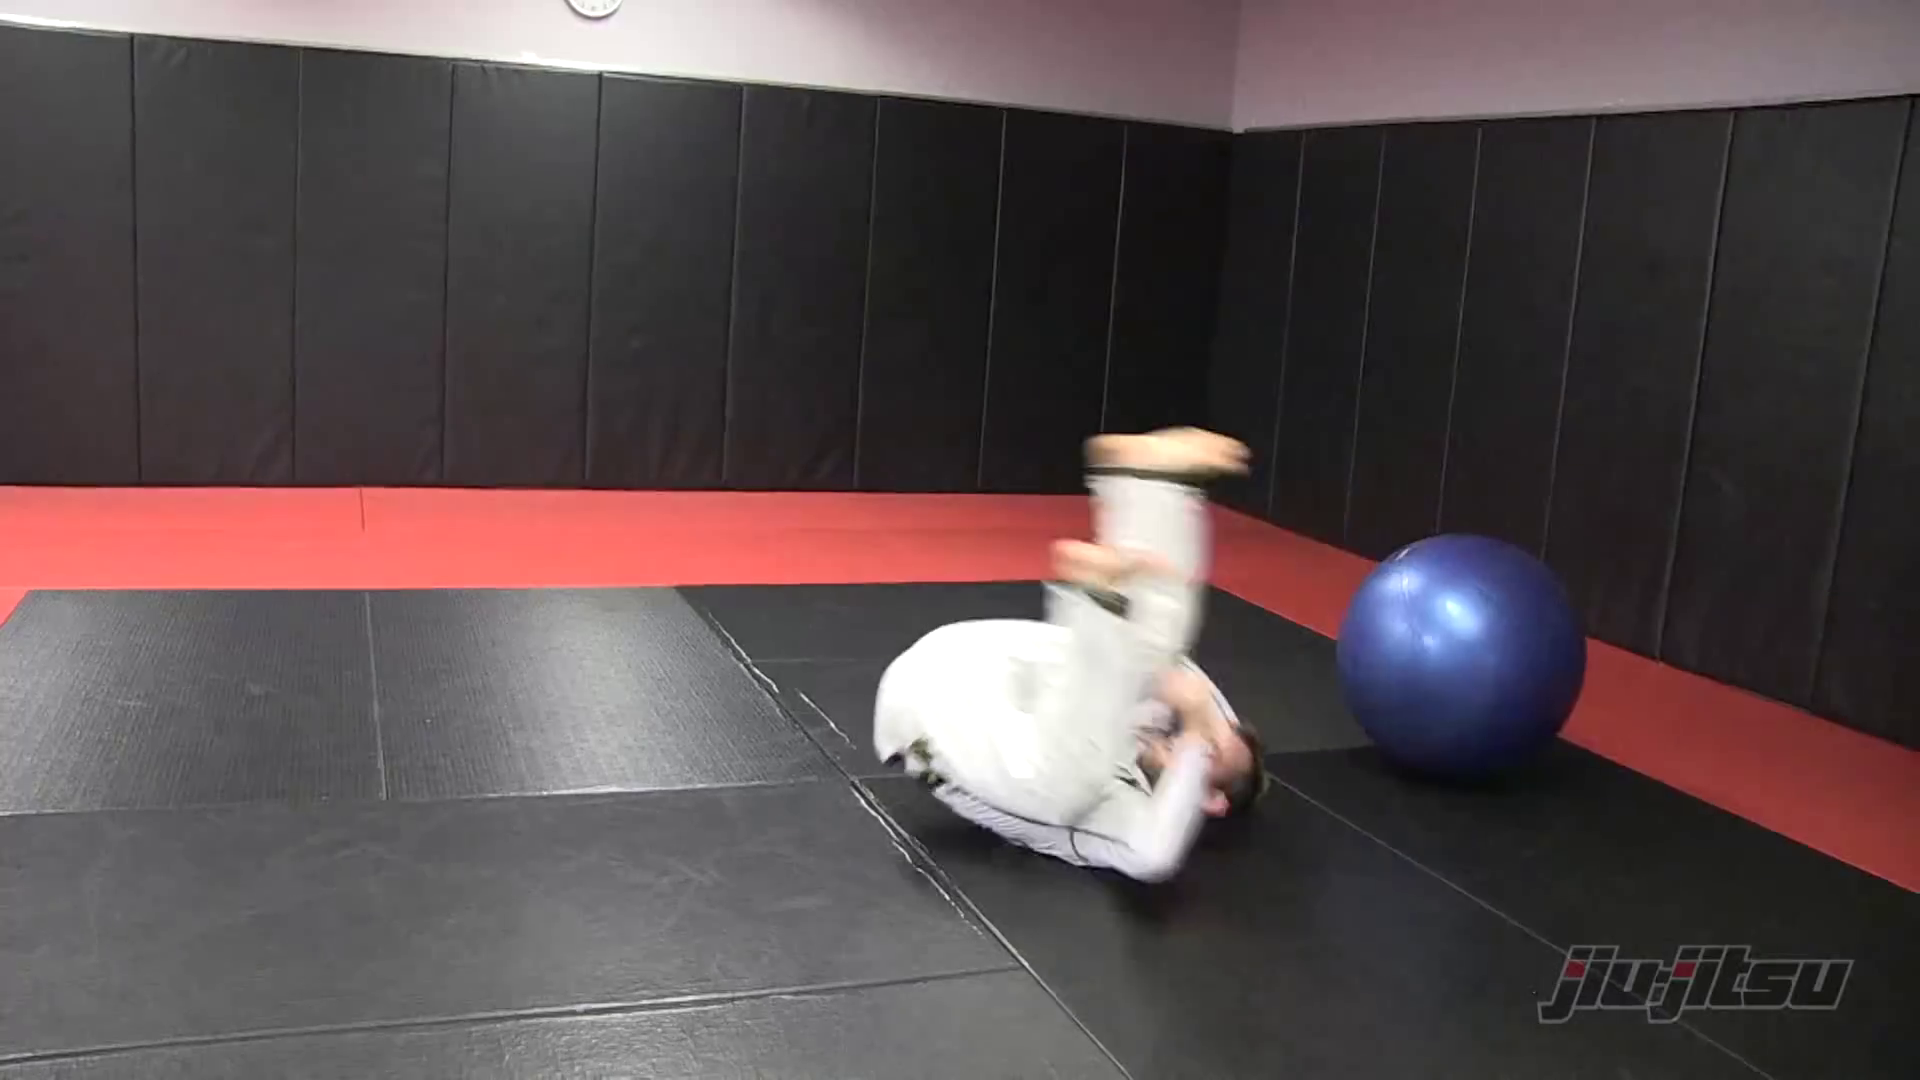yogaball: (1323, 512, 1604, 800)
